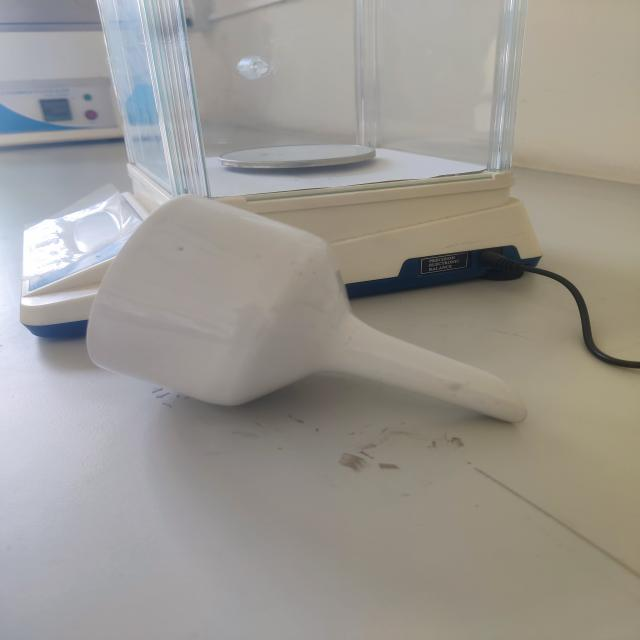Buchner_Funnel: (24, 183, 563, 454)
